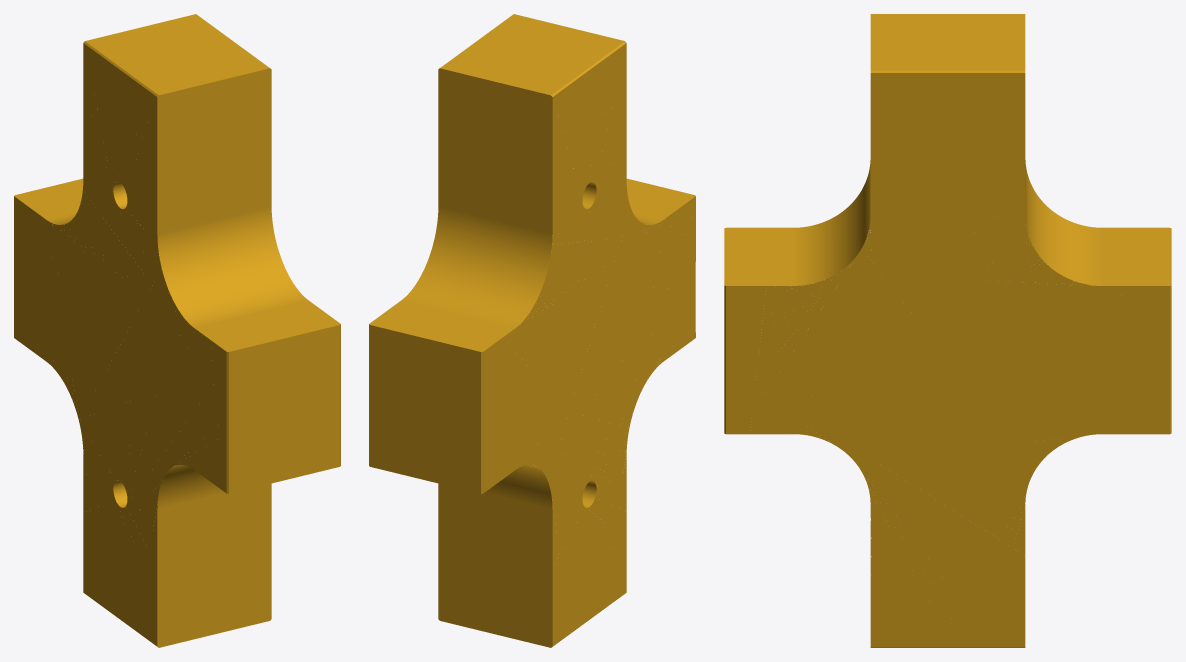
Rendered from takoz-krupp-hm-960-top-buffer-02.glb.
3 views of the same model, side by side, from view 1: azimuth 30°, elevation 25°; view 2: azimuth 150°, elevation 25°; view 3: azimuth 270°, elevation 25° (orthographic). The views are drawn at different scales.
Visible parts, largest first — view 1: body; view 2: body; view 3: body.
Part boxes in pixels (x1,y1,x2,y2): body: [14, 14, 340, 647]; body: [369, 14, 695, 647]; body: [724, 14, 1171, 647].
Size of the model in its own units: 0.08 by 0.37 by 0.26.
